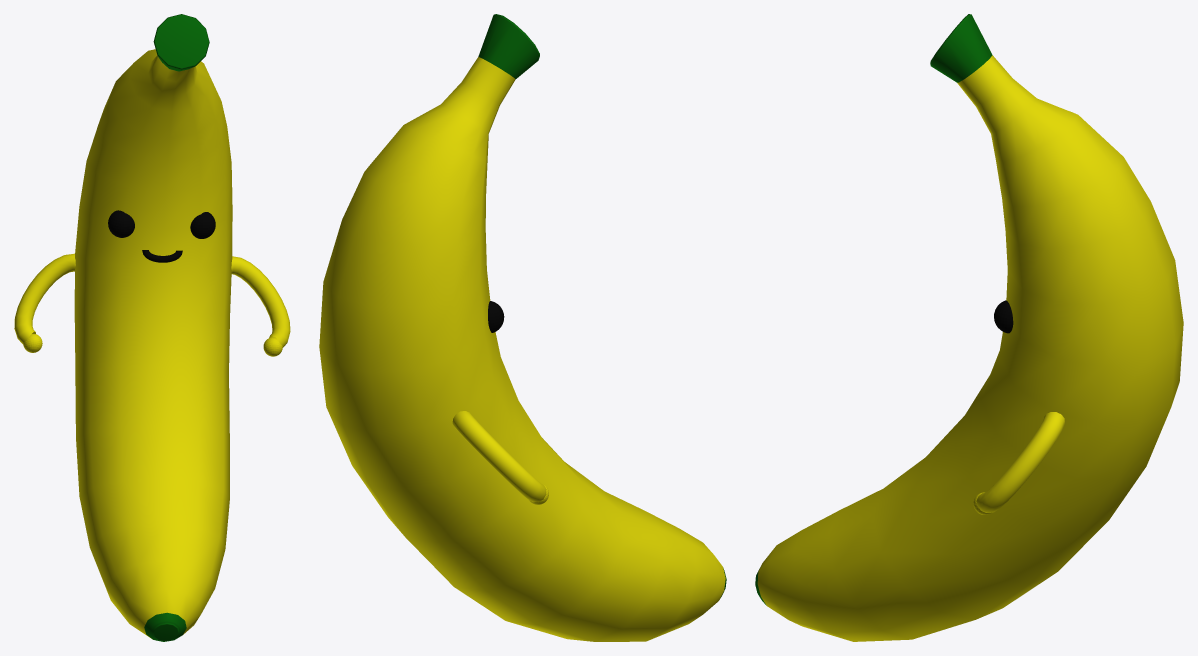
The model's file is lv0_basicBanana3d_model.glb.
3 views of the same model, side by side, from view 1: azimuth 30°, elevation 25°; view 2: azimuth 150°, elevation 25°; view 3: azimuth 270°, elevation 25° (orthographic). The views are drawn at different scales.
Visible parts, largest first — view 1: Banana, 球.002, Banana.001, 球, Banana.002; view 2: Banana, 球.002, Banana.001; view 3: Banana, 球.002, Banana.001.
Part boxes in pixels (bbox=[...]): Banana: bbox=[74, 49, 232, 638]; 球.002: bbox=[14, 253, 290, 356]; Banana.001: bbox=[153, 14, 209, 71]; 球: bbox=[108, 210, 215, 238]; Banana.002: bbox=[144, 612, 186, 641]; Banana: bbox=[319, 57, 725, 641]; 球.002: bbox=[452, 411, 548, 504]; Banana.001: bbox=[478, 14, 539, 79]; Banana: bbox=[757, 55, 1183, 641]; 球.002: bbox=[973, 412, 1064, 514]; Banana.001: bbox=[930, 14, 992, 82].
Size of the model in its own units: 0.84 by 1.84 by 1.09.
